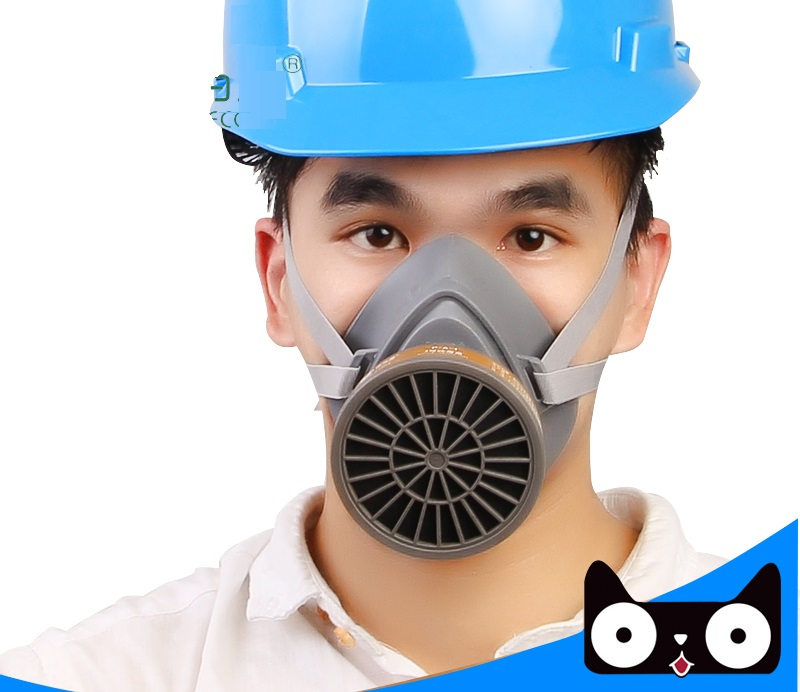face_mask: (291, 115, 611, 476)
